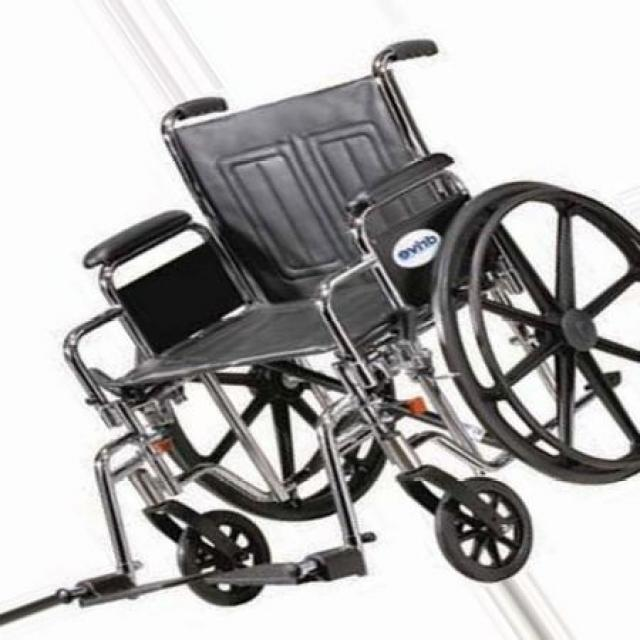wheelchair: (44, 31, 639, 640)
